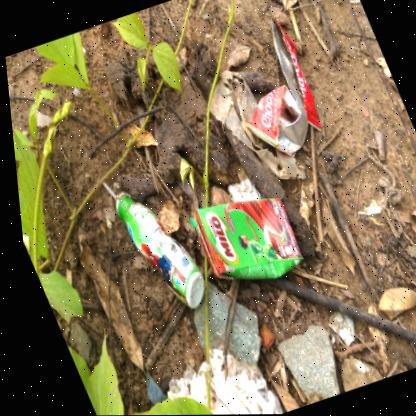Paper: (186, 200, 297, 281)
Plastic: (243, 18, 319, 156), (113, 194, 199, 308), (100, 182, 113, 200)
Waste: (207, 71, 303, 180), (160, 343, 275, 415), (223, 176, 259, 202)
